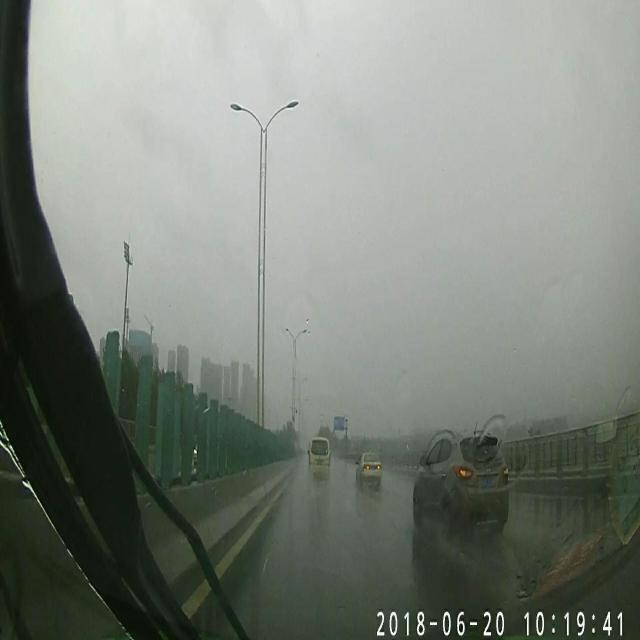car: (412, 426, 508, 540), (354, 449, 382, 486), (308, 435, 330, 482)
